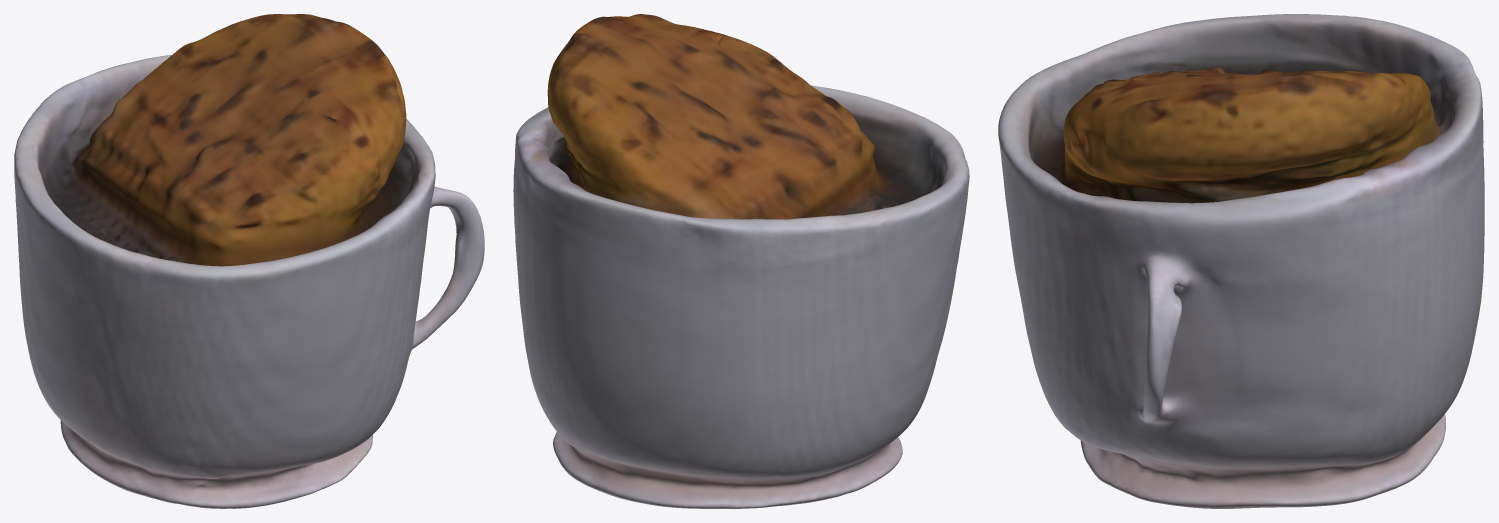
File: biscuit coffee.glb
The picture shows the model from 3 angles, left to right: view 1: azimuth 30°, elevation 25°; view 2: azimuth 150°, elevation 25°; view 3: azimuth 270°, elevation 25°; orthographic projection. The views are drawn at different scales.
Parts seen in each view (by area): view 1: high_poly; view 2: high_poly; view 3: high_poly.
Part boxes in pixels (x1=…): high_poly: x1=14, y1=14, x2=484, y2=508; high_poly: x1=513, y1=14, x2=969, y2=508; high_poly: x1=998, y1=14, x2=1484, y2=508.
Size of the model in its own units: 1 by 0.8954 by 0.8935.
Materials: 1 (1 with a texture image).
